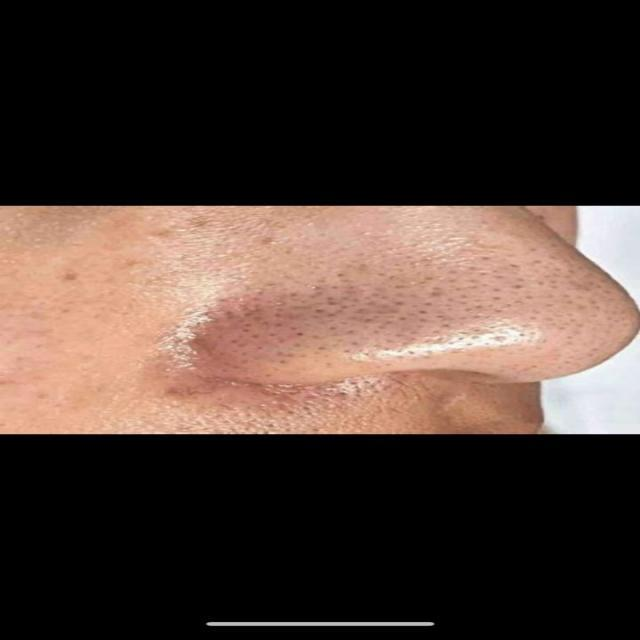blackhead: (140, 230, 558, 374)
